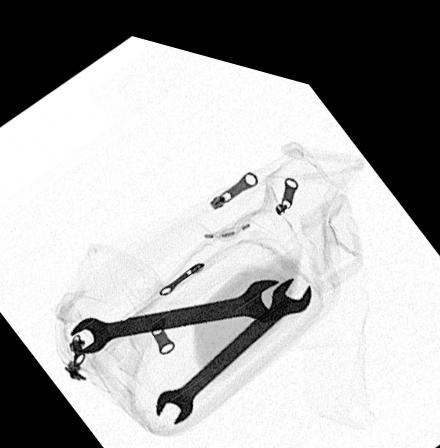Wrench: (155, 260, 309, 414), (69, 262, 282, 348)
